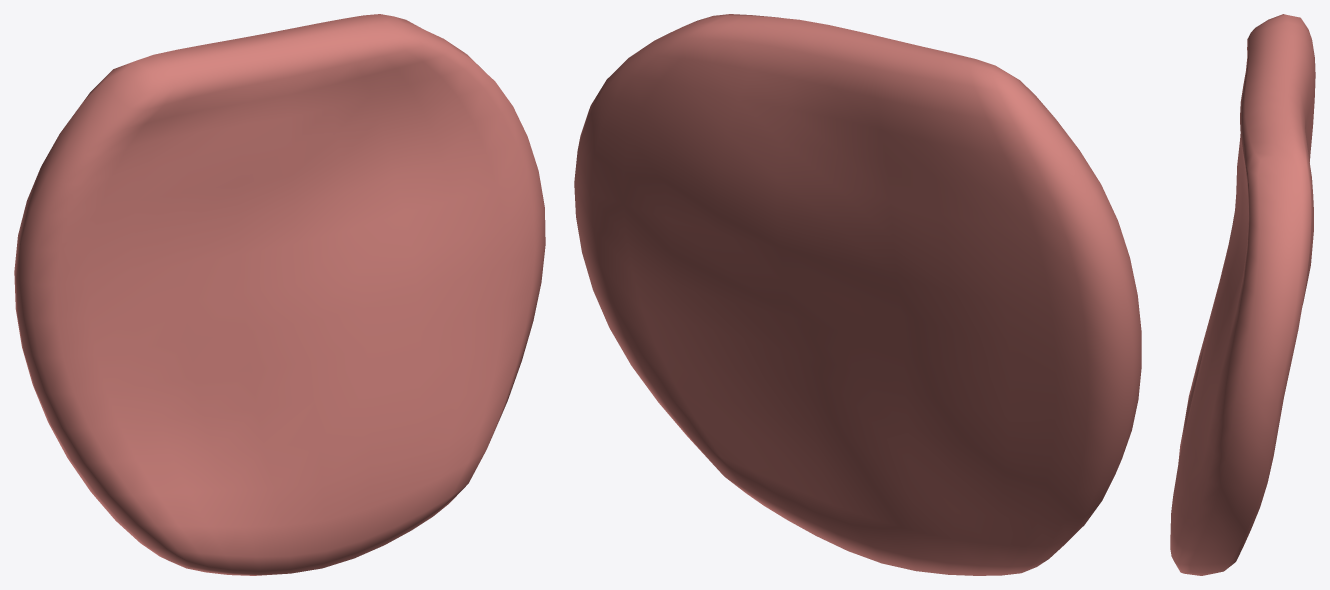
3 renders of one model, left to right at view 1: azimuth 30°, elevation 25°; view 2: azimuth 150°, elevation 25°; view 3: azimuth 270°, elevation 25°, orthographic. The views are drawn at different scales.
Parts seen in each view (by area): view 1: ZA_1cb3ac696bb11b92; view 2: ZA_1cb3ac696bb11b92; view 3: ZA_1cb3ac696bb11b92.
Part boxes in pixels (left/top/right/bottom): ZA_1cb3ac696bb11b92: left=14, top=14, right=545, bottom=575; ZA_1cb3ac696bb11b92: left=574, top=14, right=1141, bottom=575; ZA_1cb3ac696bb11b92: left=1170, top=14, right=1315, bottom=575.
Bounding box in the file's own units: 0.0173 × 0.0165 × 0.00453.
